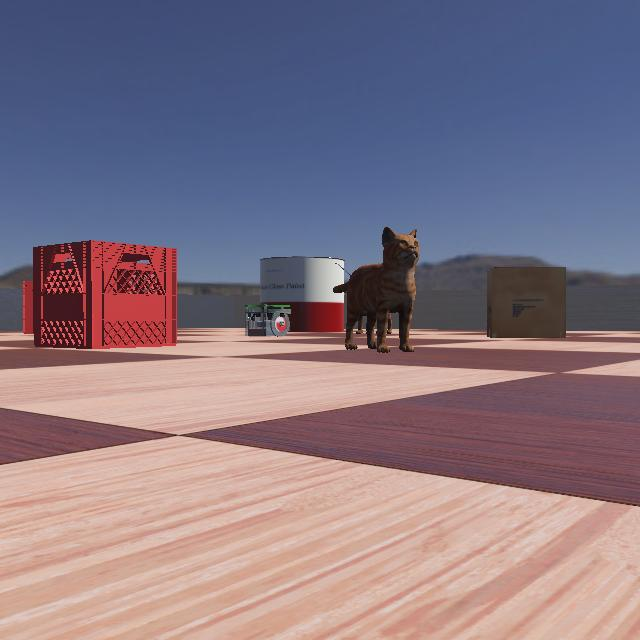cardboard-box: (476, 266, 576, 338), (476, 266, 576, 338)
cat: (330, 221, 428, 353), (330, 221, 428, 353), (330, 221, 428, 353)
plastic-crate: (6, 240, 188, 348)
